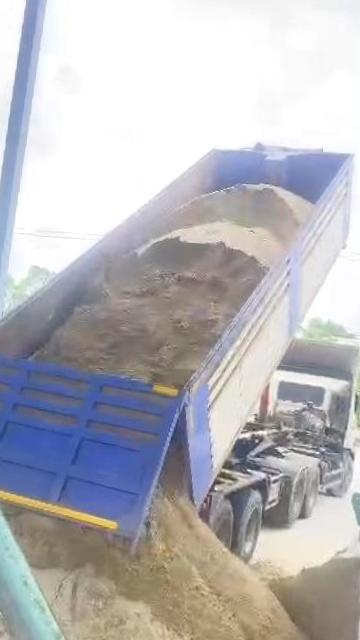sand: (38, 185, 311, 386), (11, 500, 335, 640), (270, 547, 360, 640), (0, 508, 61, 640), (145, 446, 192, 534), (252, 562, 289, 583)
